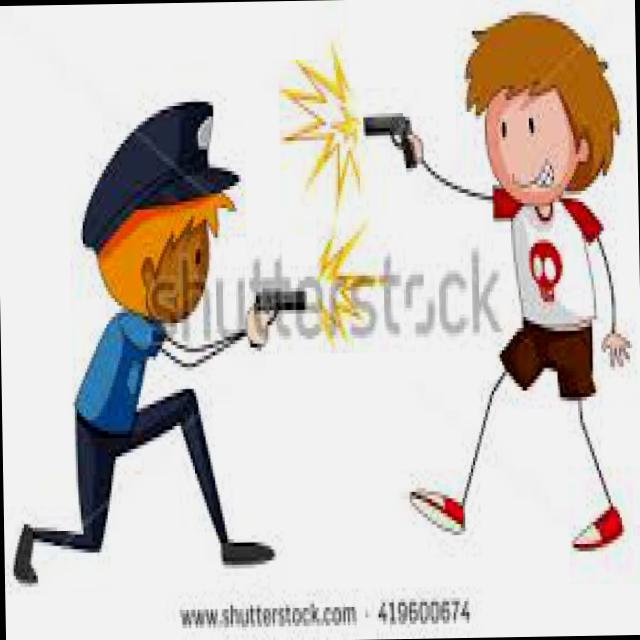handgun: (245, 280, 308, 344), (360, 105, 414, 165)
